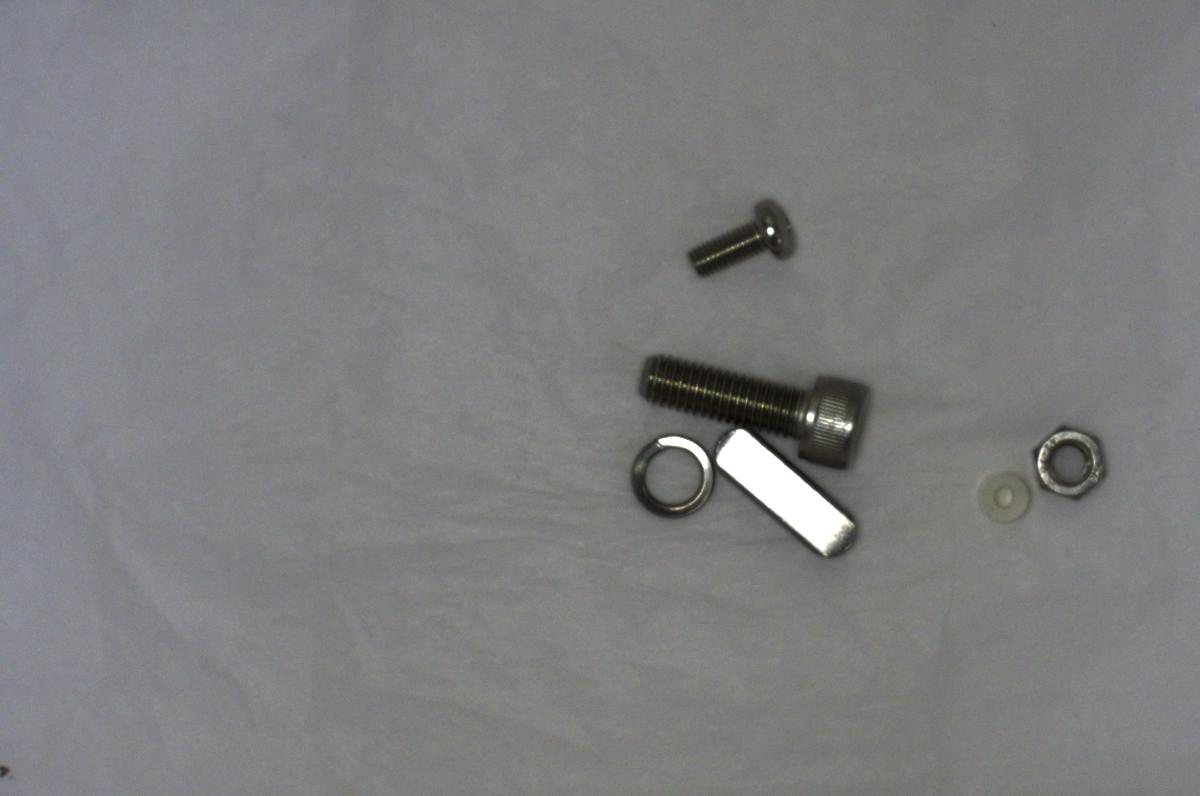Hexagon nut: (1021, 417, 1108, 504)
Hexagon screw: (625, 331, 880, 467)
Keybar: (703, 410, 860, 565)
Plastic cushion pillar: (971, 468, 1041, 531)
Round head screw: (684, 190, 798, 282)
Spring washer: (624, 419, 716, 526)
